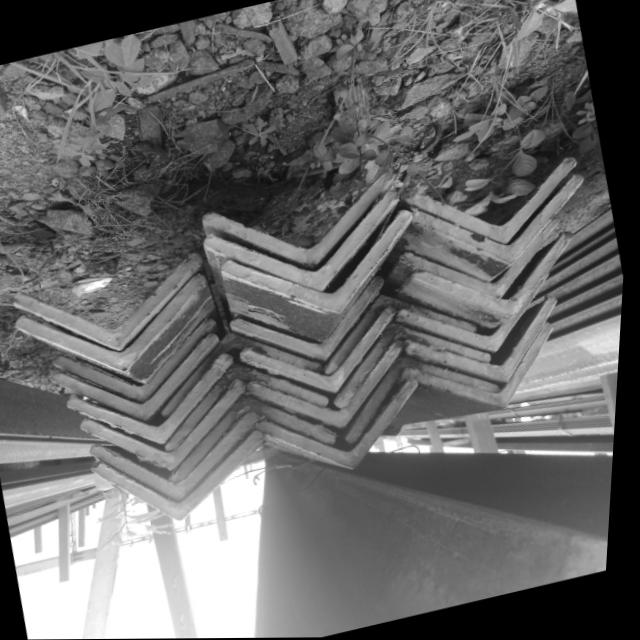metal-angles: (223, 209, 417, 314), (206, 190, 401, 292), (19, 274, 210, 373), (16, 253, 205, 350), (204, 172, 396, 267), (97, 430, 270, 520), (413, 174, 586, 264), (402, 157, 578, 245), (71, 353, 239, 445), (84, 379, 252, 471), (95, 411, 264, 501), (174, 394, 342, 483), (261, 378, 423, 470), (169, 362, 335, 451), (57, 333, 222, 422), (56, 317, 221, 403), (251, 339, 409, 428), (165, 331, 326, 417), (415, 232, 576, 318), (243, 307, 402, 394), (349, 356, 506, 444), (339, 321, 495, 408), (402, 215, 563, 299), (410, 296, 562, 382), (233, 276, 388, 360), (409, 322, 557, 409), (400, 272, 553, 353), (327, 295, 481, 374)
